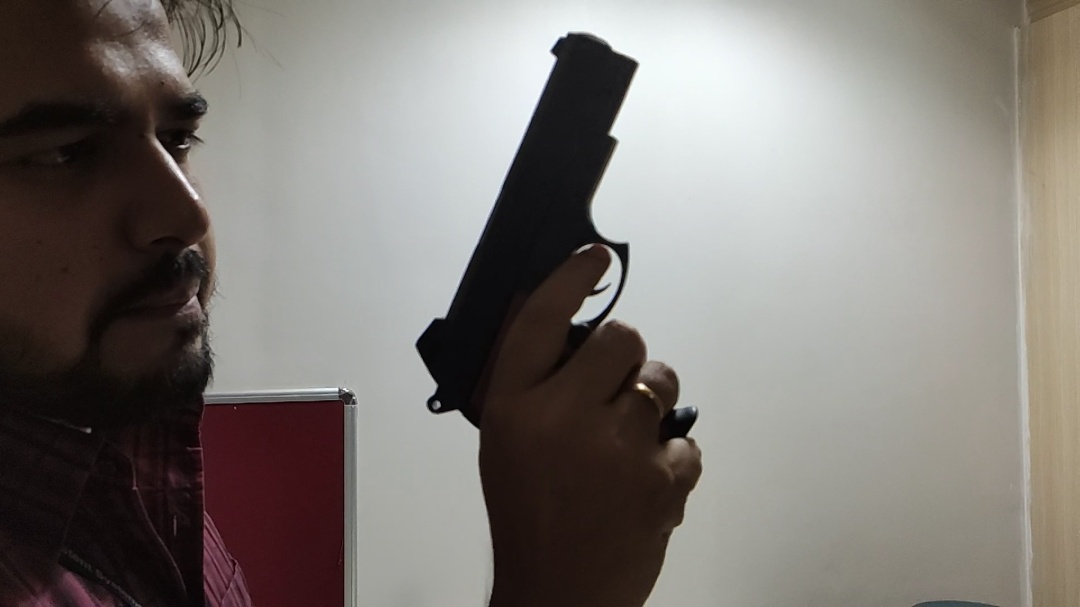gun: (413, 29, 700, 452)
